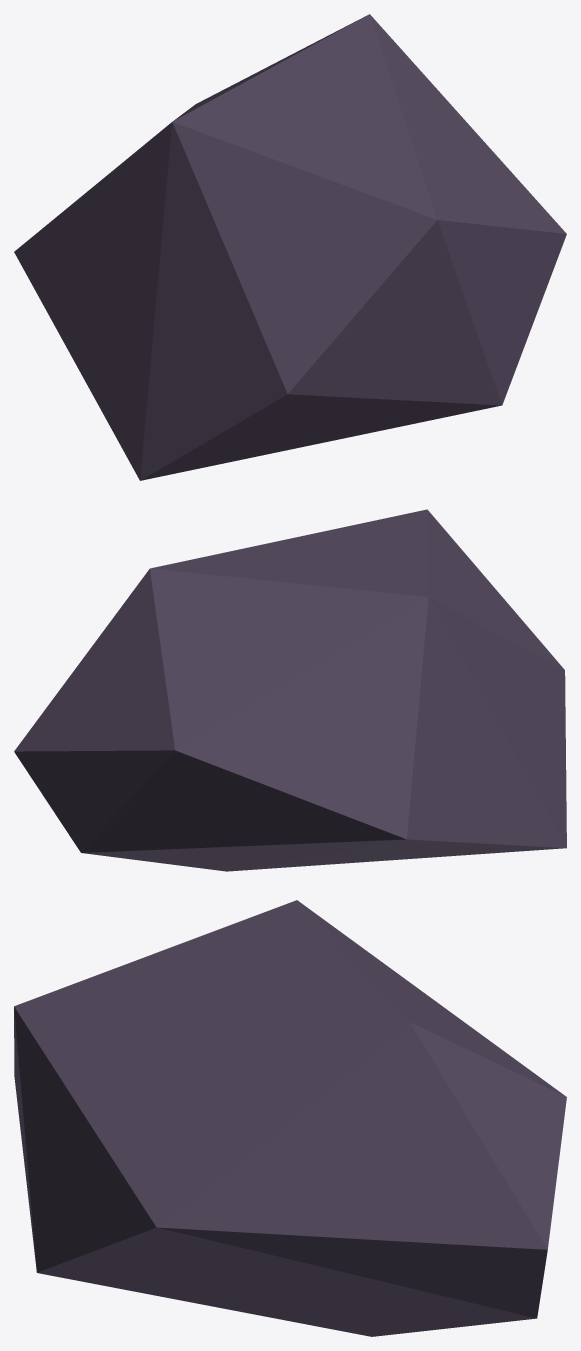
Rendered from SM_rock_large_02.fbx.
The picture shows the model from 3 angles, top to bottom: view 1: azimuth 30°, elevation 25°; view 2: azimuth 150°, elevation 25°; view 3: azimuth 270°, elevation 25°; orthographic projection. The views are drawn at different scales.
Parts seen in each view (by area): view 1: rock_large_02; view 2: rock_large_02; view 3: rock_large_02.
Boxes of the visible parts, x1,y1,x2,y2 form: rock_large_02: (14, 14, 566, 480); rock_large_02: (14, 509, 566, 871); rock_large_02: (14, 900, 566, 1336).
Bounding box in the file's own units: 156 × 114 × 164.
